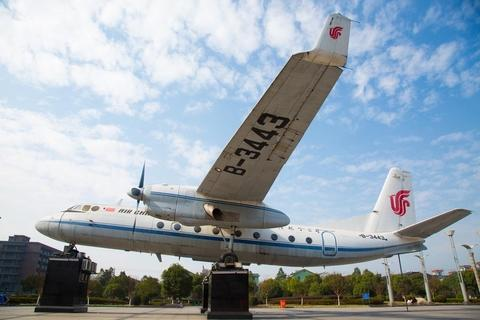airplane: (26, 12, 470, 270)
